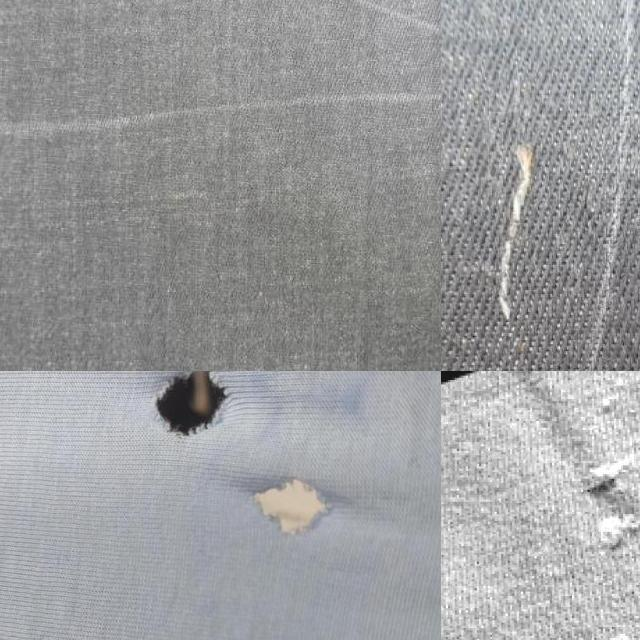Thread_other: (441, 65, 593, 371), (492, 385, 640, 640)
seam: (101, 371, 271, 449), (230, 462, 365, 553)
